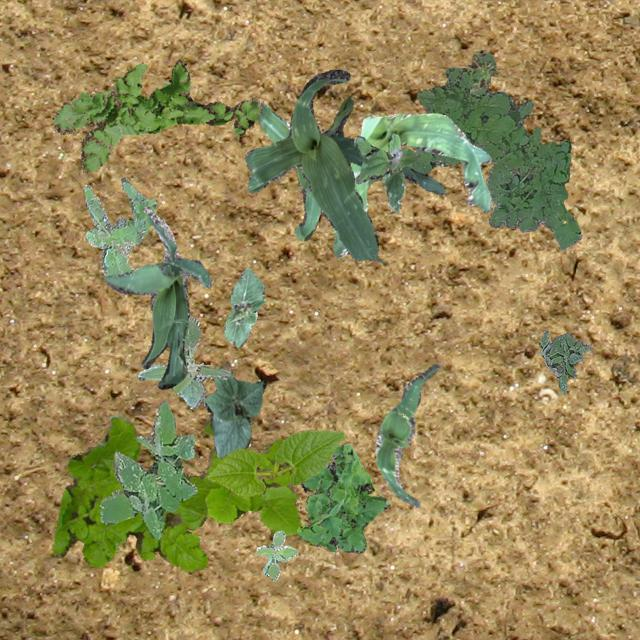crop: (244, 68, 443, 260), (332, 111, 492, 258), (102, 204, 212, 388), (374, 362, 441, 507), (205, 428, 344, 496), (256, 102, 320, 240), (200, 373, 264, 458), (222, 266, 264, 346)
weed: (52, 412, 300, 570), (408, 52, 580, 250), (52, 60, 262, 172), (98, 399, 196, 538), (296, 442, 388, 552), (136, 314, 230, 408), (82, 176, 156, 274), (352, 132, 418, 212), (538, 328, 590, 392), (255, 530, 298, 580), (466, 48, 498, 92)
